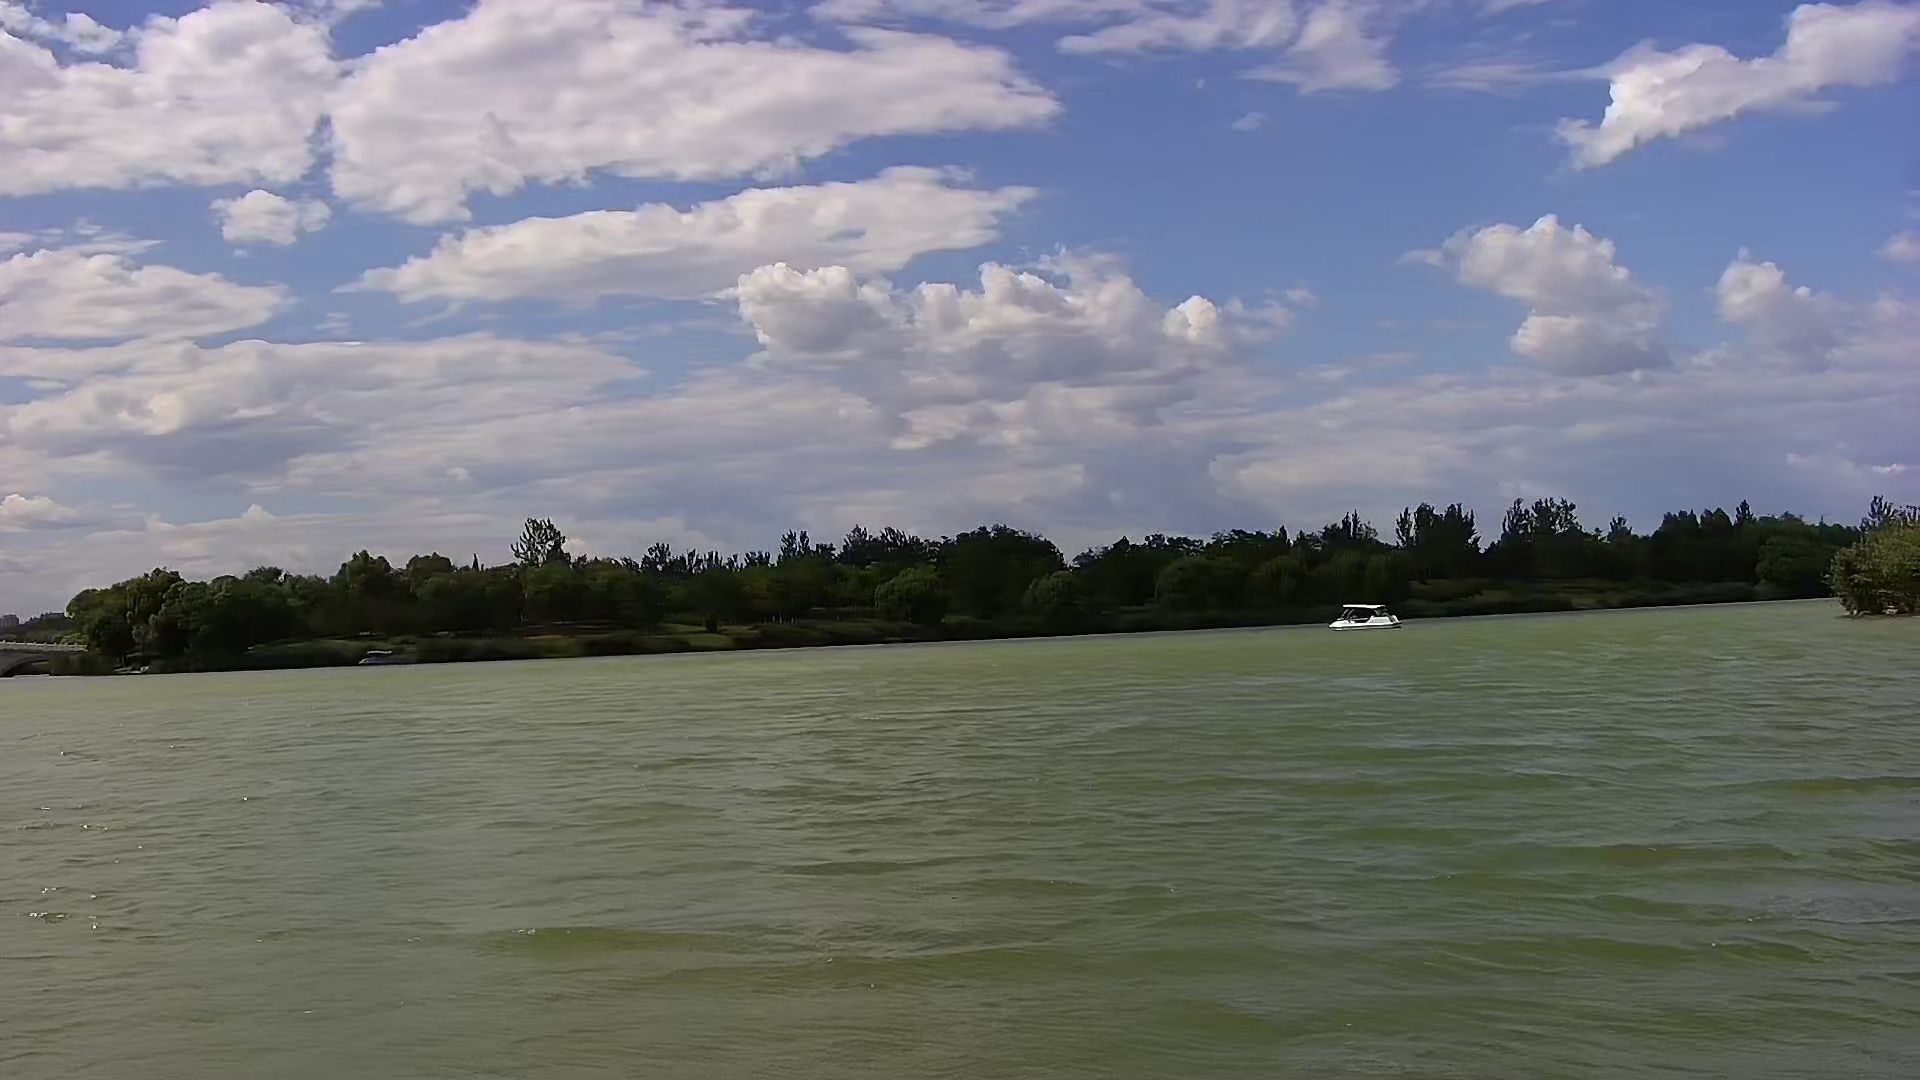boat: (1324, 601, 1404, 633), (353, 647, 409, 669)
bridge: (1, 636, 99, 678)
